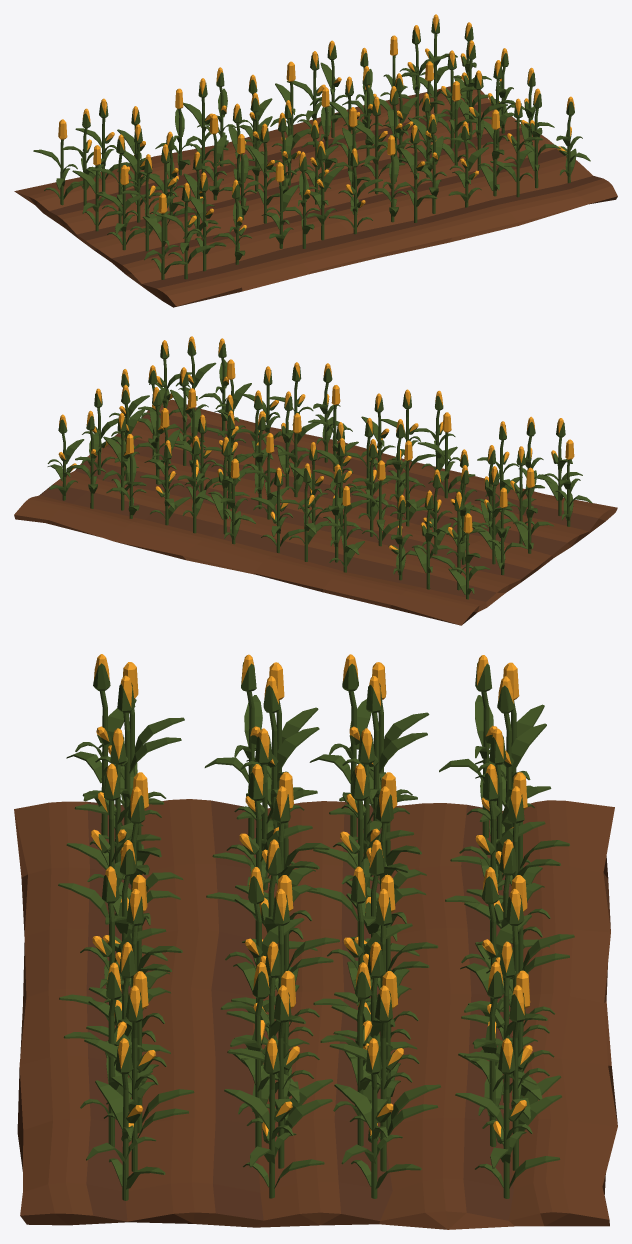
The model's file is Cornharvest_1.fbx.
The picture shows the model from 3 angles, top to bottom: view 1: azimuth 30°, elevation 25°; view 2: azimuth 150°, elevation 25°; view 3: azimuth 270°, elevation 25°; orthographic projection. The views are drawn at different scales.
Parts seen in each view (by area): view 1: Cornharvest_1; view 2: Cornharvest_1; view 3: Cornharvest_1.
Boxes of the visible parts, x1,y1,x2,y2 form: Cornharvest_1: (14, 14, 617, 307); Cornharvest_1: (14, 336, 617, 625); Cornharvest_1: (14, 654, 617, 1229).
Size of the model in its own units: 936 by 204 by 575.
